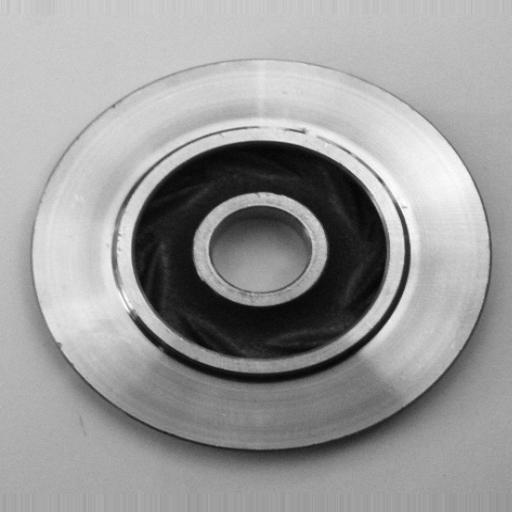scratch: (95, 227, 141, 329), (241, 115, 301, 136)
unpolished_casting: (28, 58, 494, 457)
